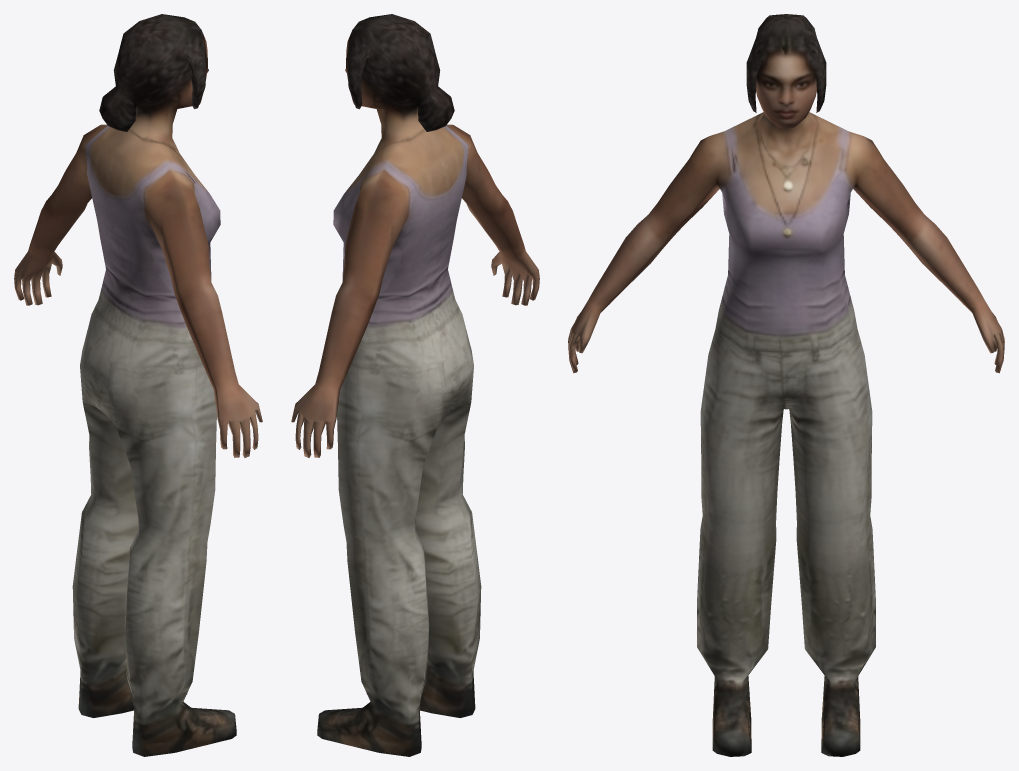
The model's file is Character_46_Female.fbx.
3 renders of one model, left to right at view 1: azimuth 30°, elevation 25°; view 2: azimuth 150°, elevation 25°; view 3: azimuth 270°, elevation 25°, orthographic. The views are drawn at different scales.
Parts seen in each view (by area): view 1: Character_46_Female; view 2: Character_46_Female; view 3: Character_46_Female.
Part boxes in pixels (bbox=[...]): Character_46_Female: bbox=[14, 14, 262, 756]; Character_46_Female: bbox=[291, 14, 539, 756]; Character_46_Female: bbox=[568, 14, 1004, 756].
Bounding box in the file's own units: 0.2654 × 1.57 × 0.867.
